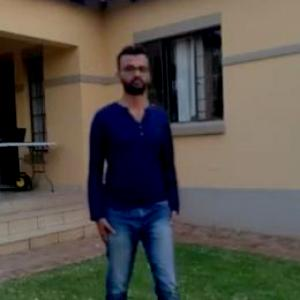follow: (97, 70, 176, 299)
